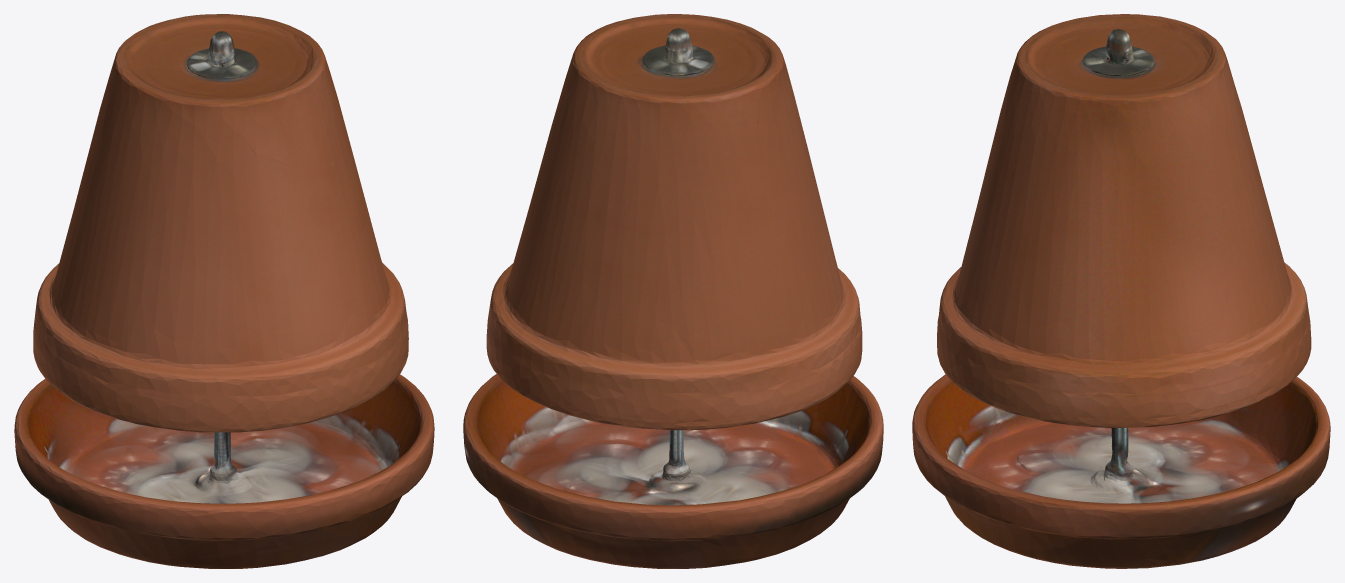
Rendered from 88981269-BEA8-0D4D-8E64-1DB7CB0B7F14_2k.glb.
3 views of the same model, side by side, from view 1: azimuth 30°, elevation 25°; view 2: azimuth 150°, elevation 25°; view 3: azimuth 270°, elevation 25° (orthographic).
Visible parts, largest first — view 1: Teelichtofen_12k_2k; view 2: Teelichtofen_12k_2k; view 3: Teelichtofen_12k_2k.
Boxes of the visible parts, x1,y1,x2,y2 form: Teelichtofen_12k_2k: (14,14,434,568); Teelichtofen_12k_2k: (463,14,883,568); Teelichtofen_12k_2k: (912,14,1330,568).
Size of the model in its own units: 0.1969 by 0.2465 by 0.1971.
1 material, 1 textured.
